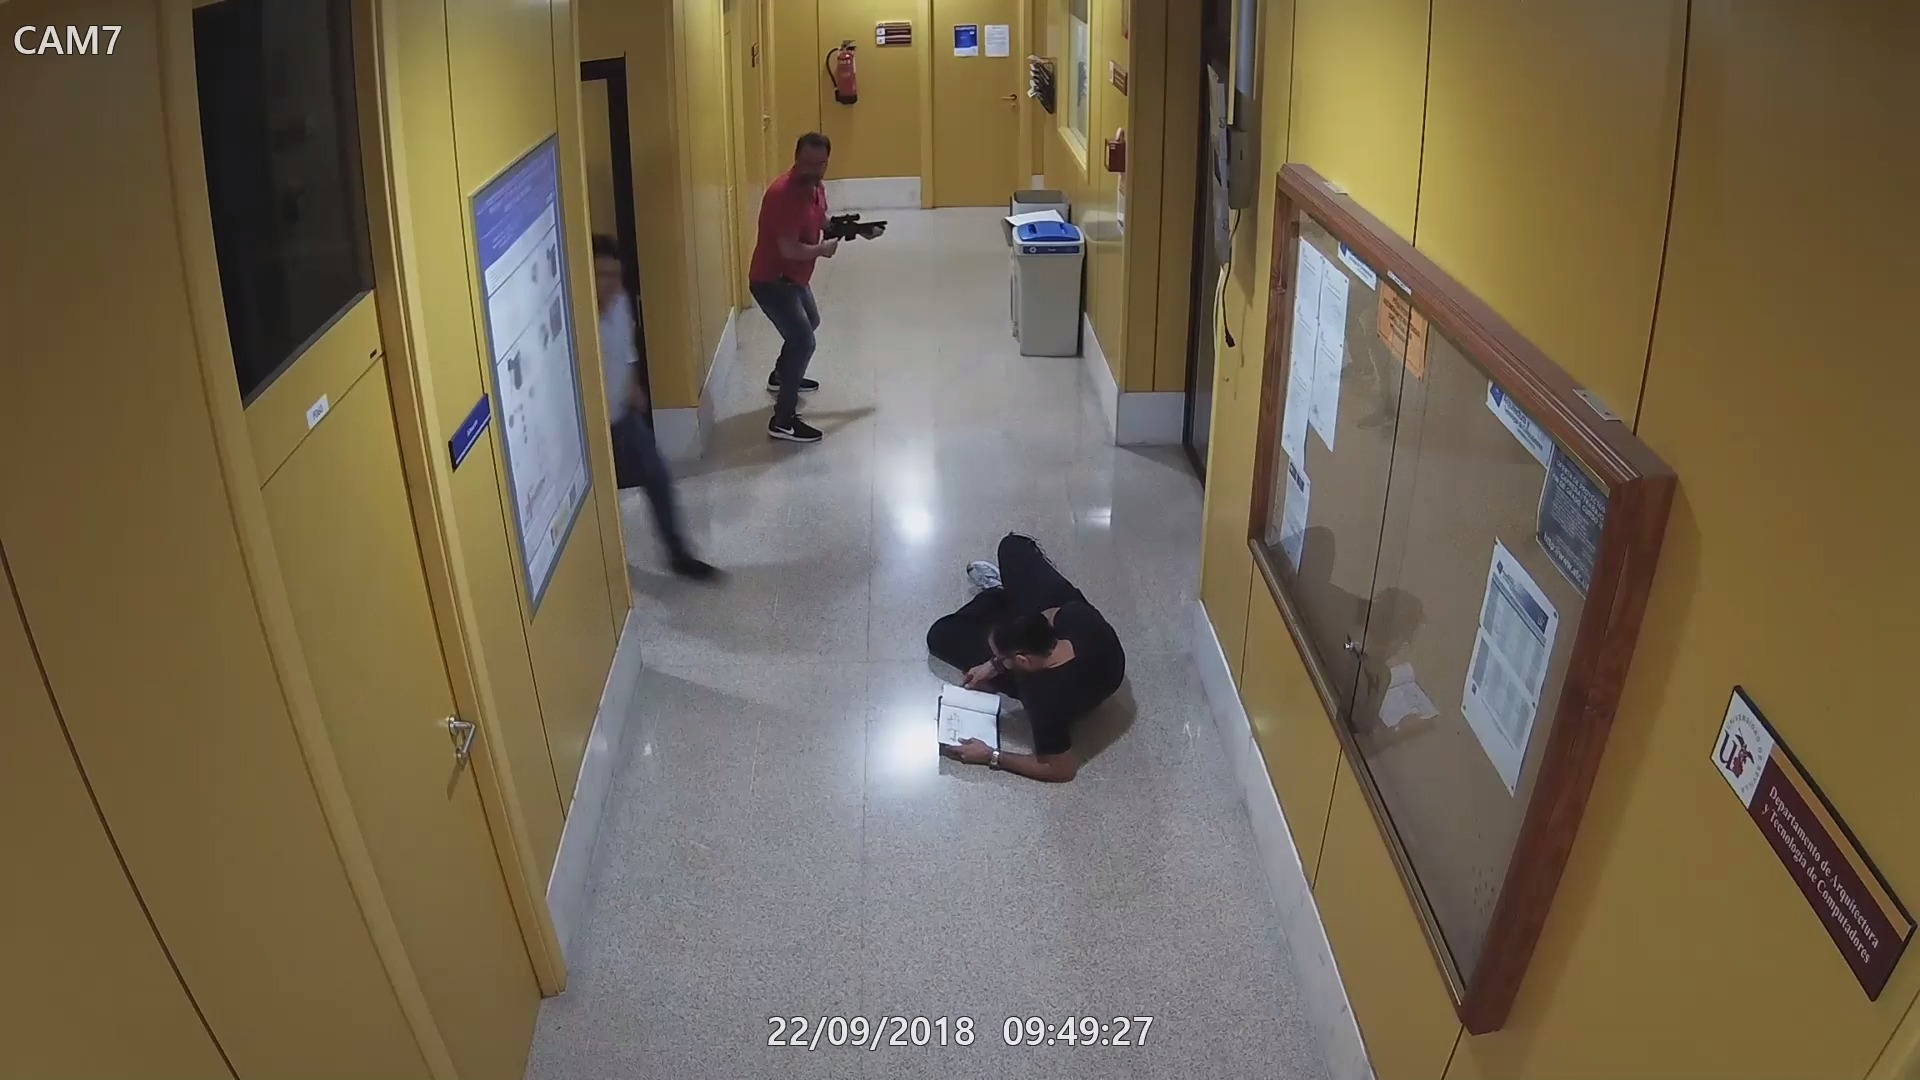Short_rifle: (823, 211, 893, 240)
